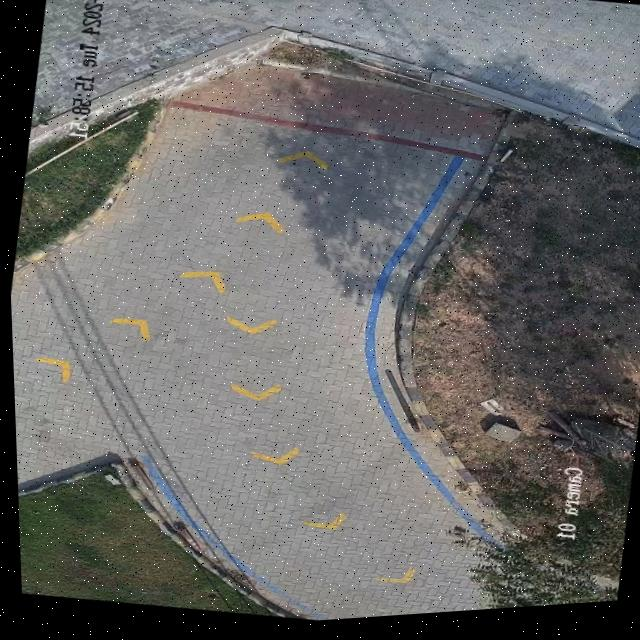No Car: (9, 0, 640, 625)
